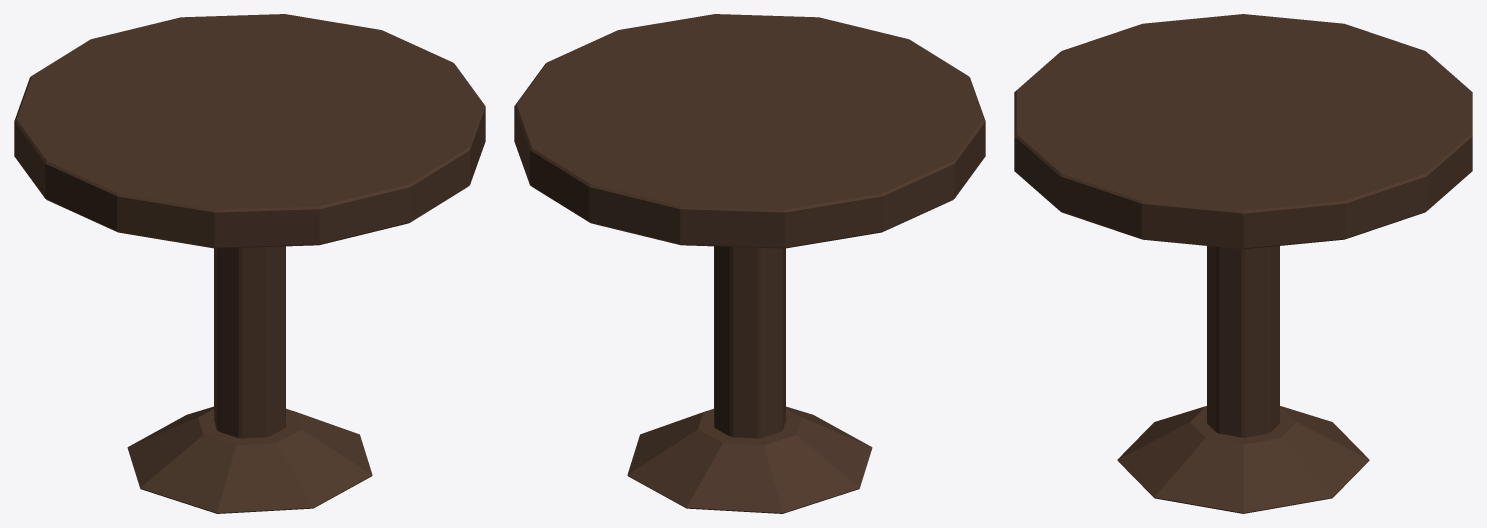
File: table_round.fbx
The picture shows the model from 3 angles, left to right: view 1: azimuth 30°, elevation 25°; view 2: azimuth 150°, elevation 25°; view 3: azimuth 270°, elevation 25°; orthographic projection.
Visible parts, largest first — view 1: table_round; view 2: table_round; view 3: table_round.
Part boxes in pixels (left/top/right/bottom): table_round: left=14, top=14, right=485, bottom=513; table_round: left=514, top=14, right=985, bottom=513; table_round: left=1014, top=14, right=1472, bottom=513.
Bounding box in the file's own units: 440 × 360 × 429.
